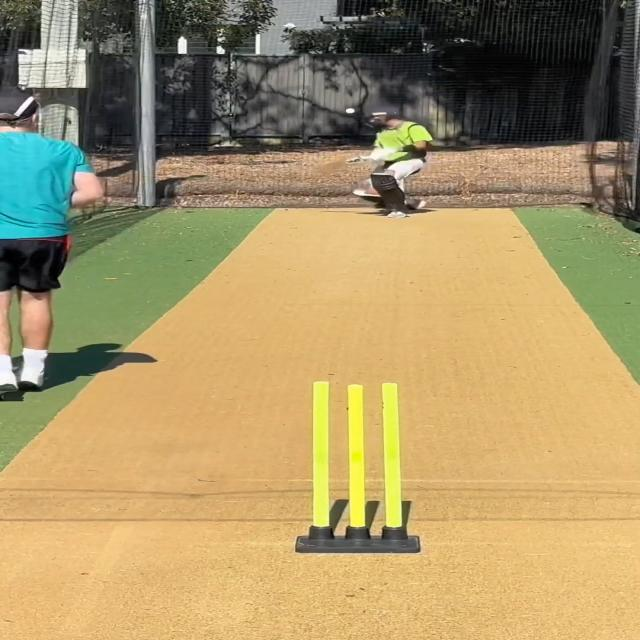ball: (344, 107, 356, 114)
stump: (294, 379, 422, 555)
